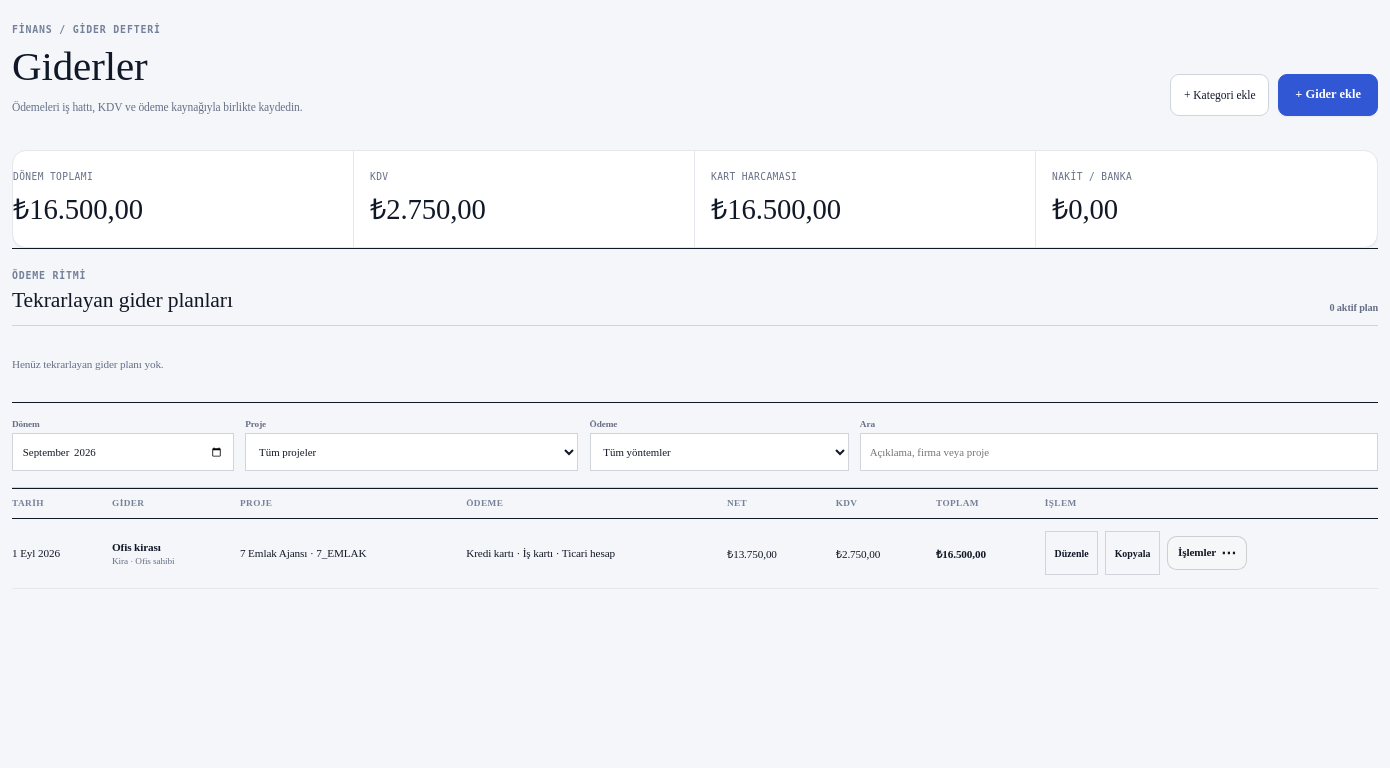
ExpensesWorkspace › keeps a linked inactive card only while editing the existing expense
Check: the text "Ofis kirası" is shown, box left=112, top=540, right=161, bottom=552
Step 1. Click the button with aria-label "Ofis kirası giderini düzenle" → (1072, 553), box left=1045, top=531, right=1098, bottom=575
(page scrolled)
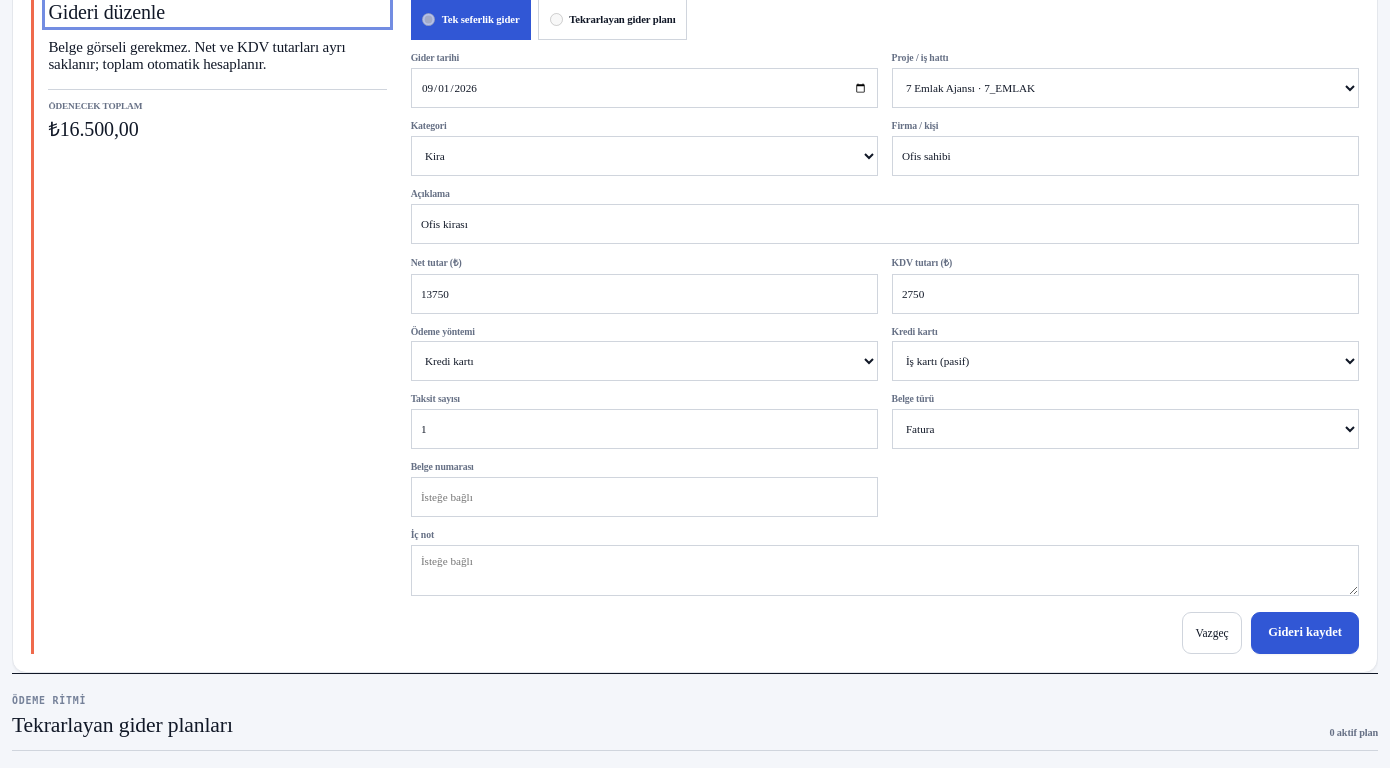
Check: the dropdown labelled "Kredi kartı" shows "İş kartı (pasif)", box left=892, top=341, right=1359, bottom=381
Step 2. Click the button "Vazgeç" → (1212, 633), box left=1182, top=612, right=1242, bottom=654
(page scrolled)
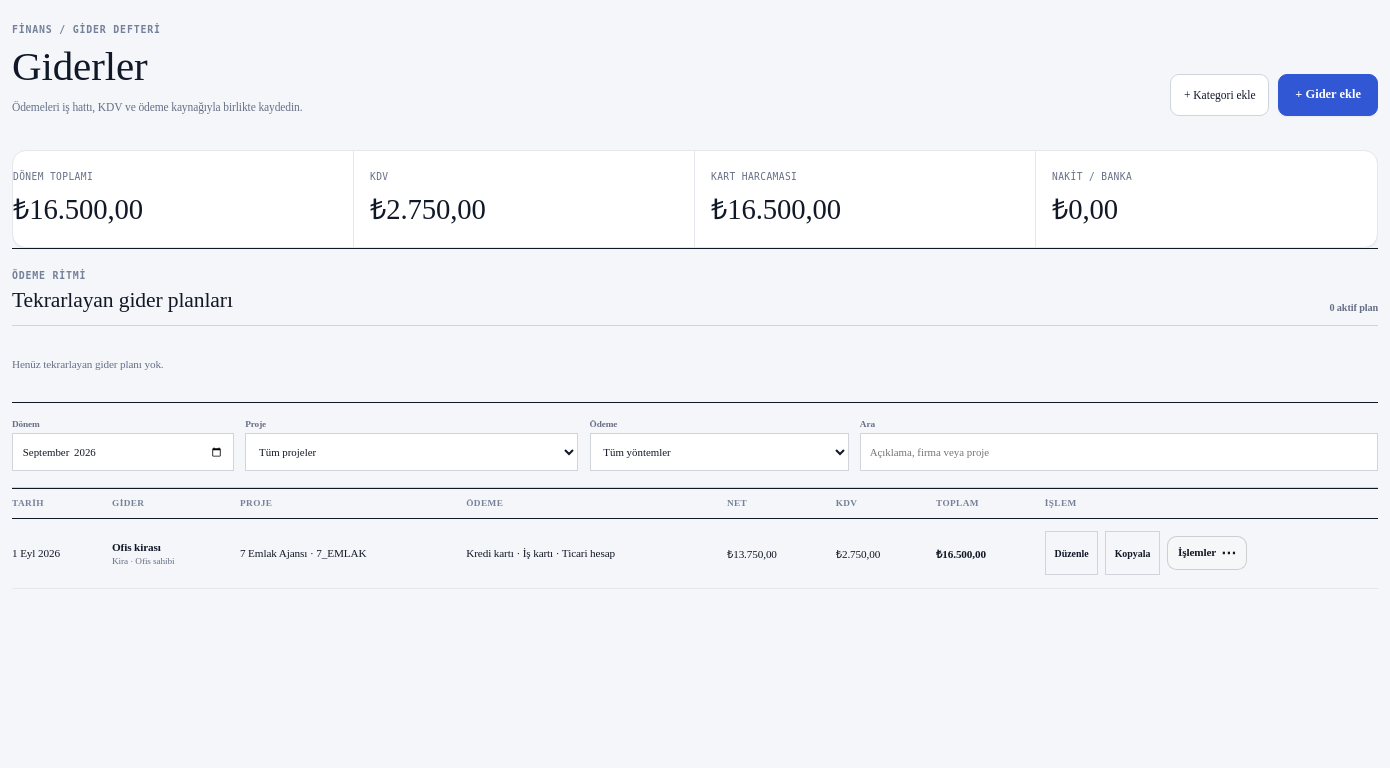
Step 3. Click the button with aria-label "Ofis kirası giderini kopyala" → (1132, 553), box left=1105, top=531, right=1160, bottom=575
(page scrolled)
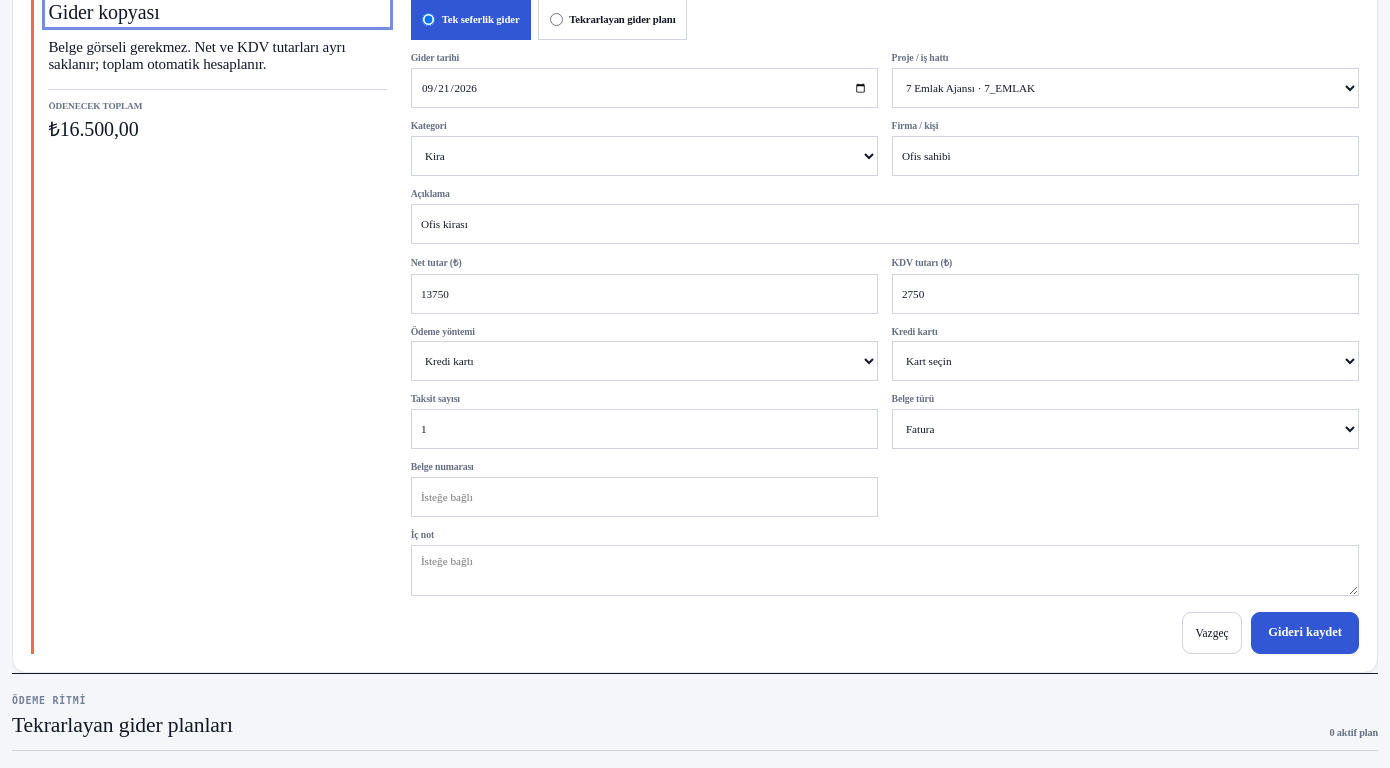
Check: the option "İş kartı (pasif)" is not shown
Check: the dropdown labelled "Kredi kartı" shows "Kart seçin", box left=892, top=341, right=1359, bottom=381
